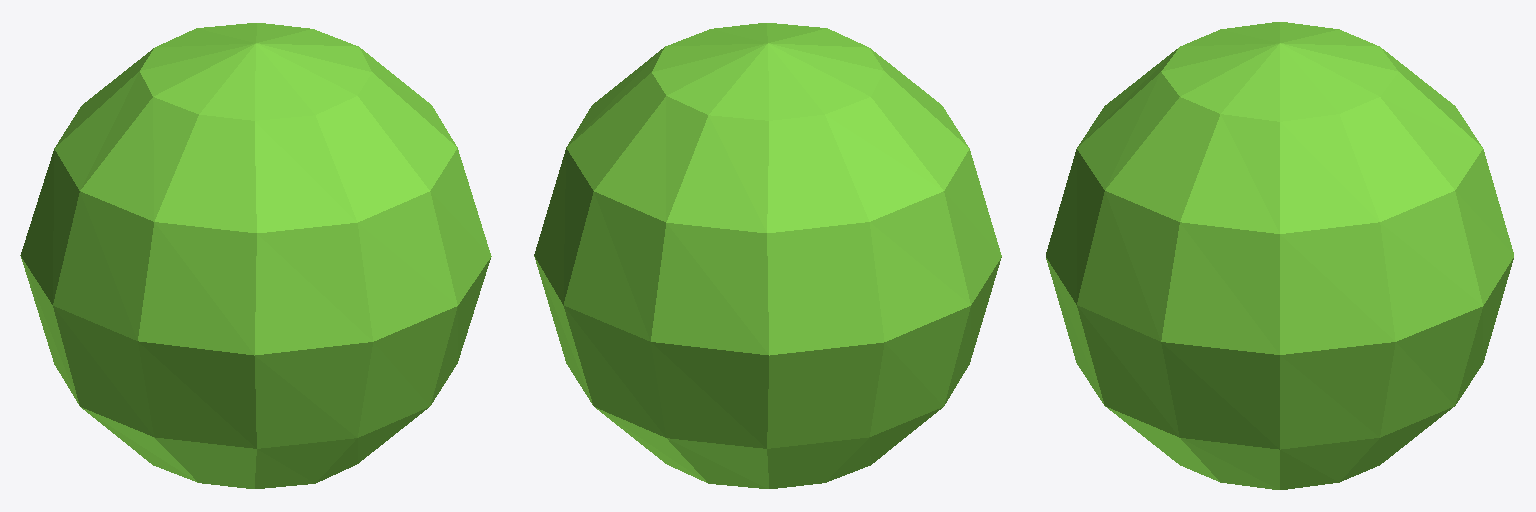
The model's file is worker.obj.
The picture shows the model from 3 angles: view 1: azimuth 30°, elevation 25°; view 2: azimuth 150°, elevation 25°; view 3: azimuth 270°, elevation 25°; orthographic projection.
Visible parts, largest first — view 1: Sphere001; view 2: Sphere001; view 3: Sphere001.
Part boxes in pixels (left/top/right/bottom): Sphere001: left=20, top=23, right=491, bottom=488; Sphere001: left=534, top=23, right=1001, bottom=488; Sphere001: left=1046, top=22, right=1513, bottom=489.
Bounding box in the file's own units: 1.5 × 1.5 × 1.5.